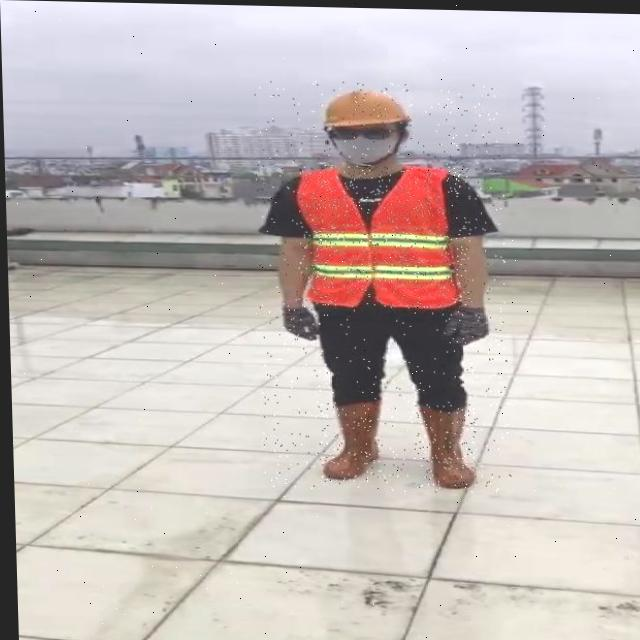Gloves: (441, 304, 487, 344), (279, 302, 317, 339)
Helmet: (321, 87, 410, 165)
Safety-Boot: (317, 396, 379, 478), (415, 399, 472, 487)
Safety-Vest: (293, 160, 458, 309)
